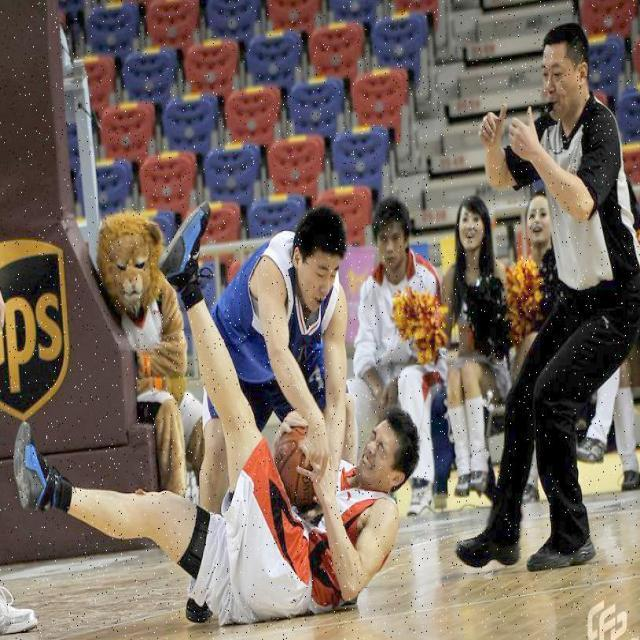fall: (36, 374, 416, 614)
